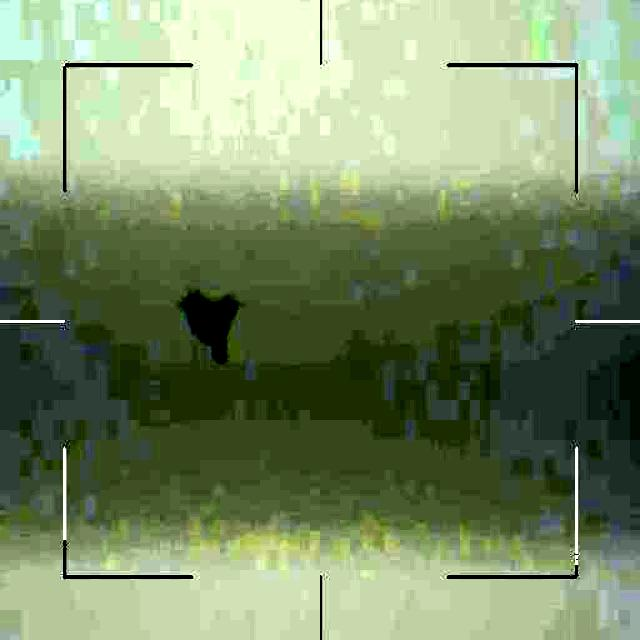bird: (189, 281, 248, 369)
